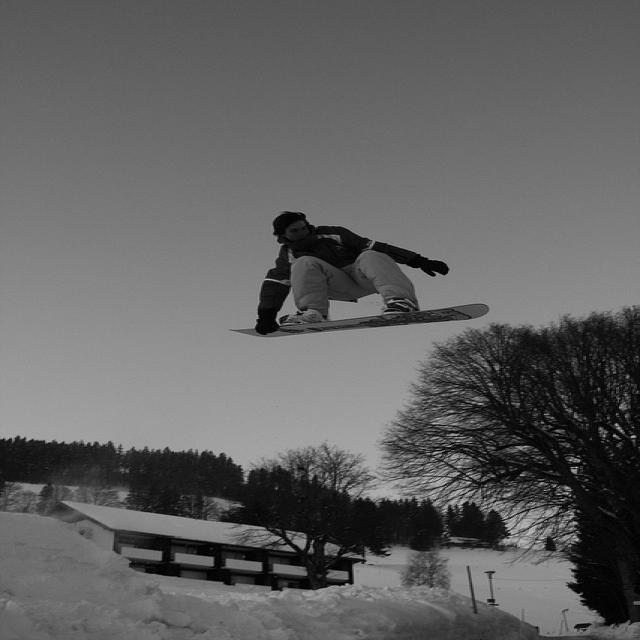monkey: (255, 211, 449, 336)
